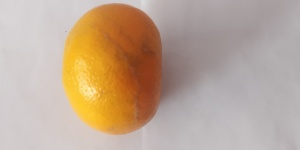BAD: (63, 3, 163, 133)
